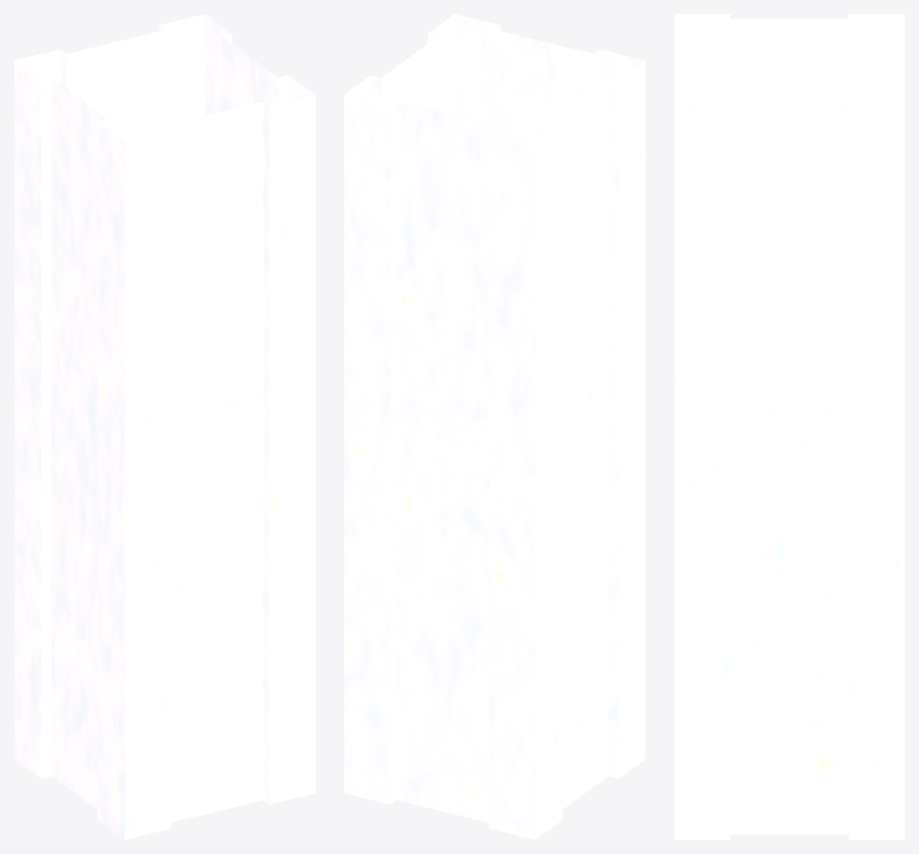
The model's file is CA_006_iron_pillar_var1.glb.
3 renders of one model, left to right at view 1: azimuth 30°, elevation 25°; view 2: azimuth 150°, elevation 25°; view 3: azimuth 270°, elevation 25°, orthographic. The views are drawn at different scales.
Parts seen in each view (by area): view 1: pillar; view 2: pillar; view 3: pillar.
Part boxes in pixels (box(x1,y1,x2,y2)): pillar: box(14, 14, 315, 839); pillar: box(344, 14, 645, 839); pillar: box(674, 14, 904, 839).
Size of the model in its own units: 0.75 by 2.62 by 0.75.
Materials: 1 (1 with a texture image).
